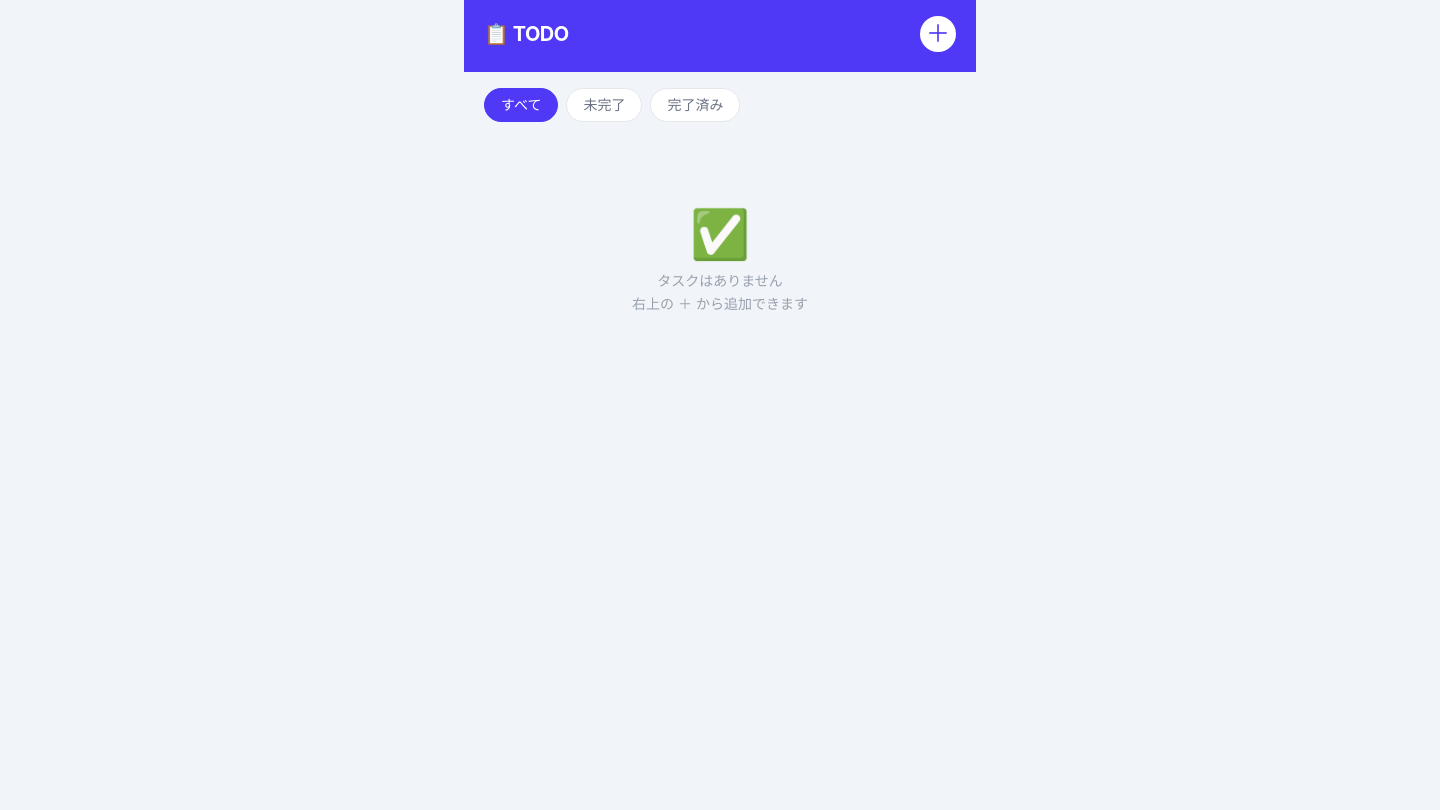
Page コンポーネント — タスク追加 › ＋ボタンをクリックすると追加モーダルが開く
Check: the text "タスクはありません" is shown, box x1=657 y1=272 x2=783 y2=289
Click the button named "追加" at (938, 34), box x1=920 y1=16 x2=956 y2=52
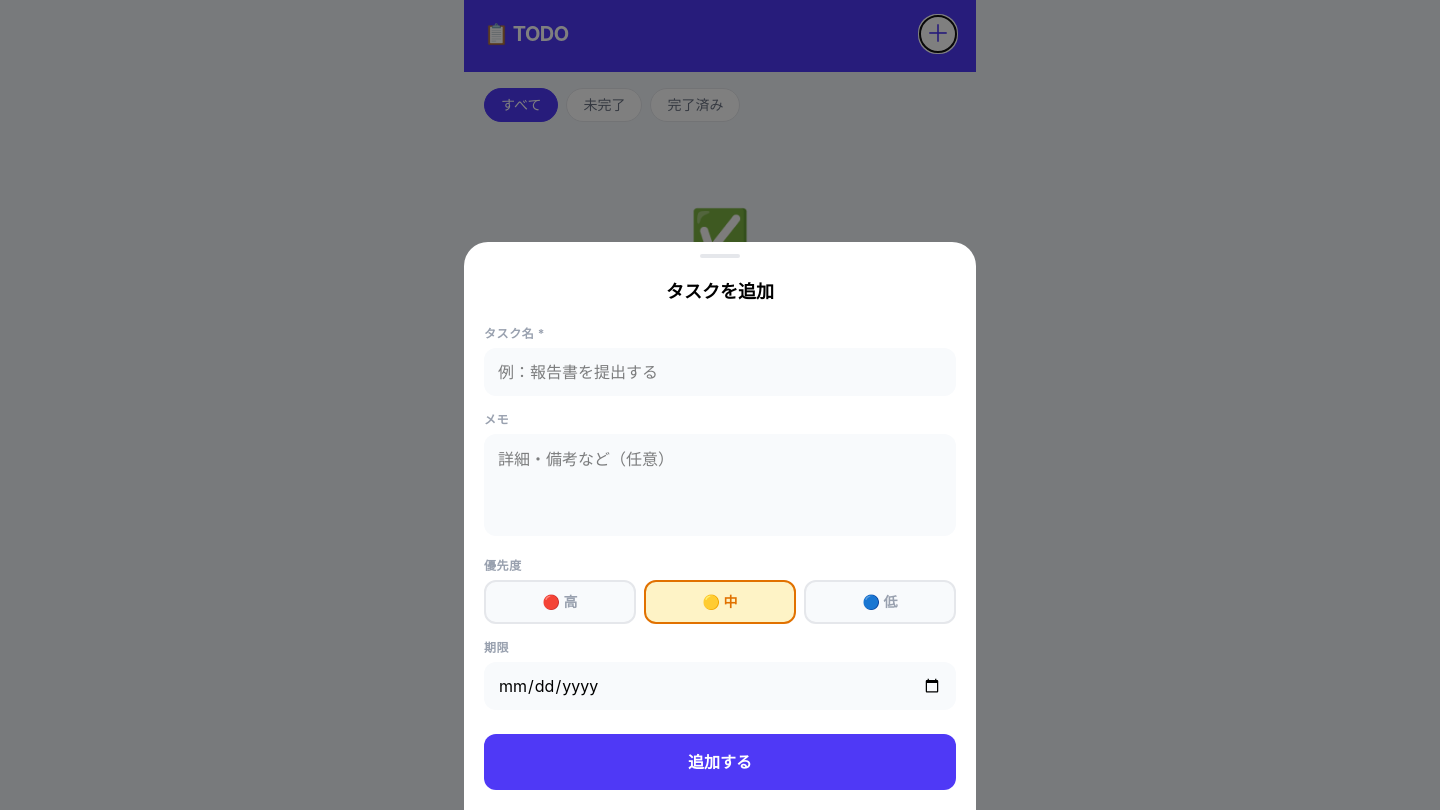
Check: the heading "タスクを追加" is shown, box x1=666 y1=281 x2=774 y2=302
Check: the field with placeholder "例：報告書を提出する" is shown, box x1=484 y1=348 x2=956 y2=396
